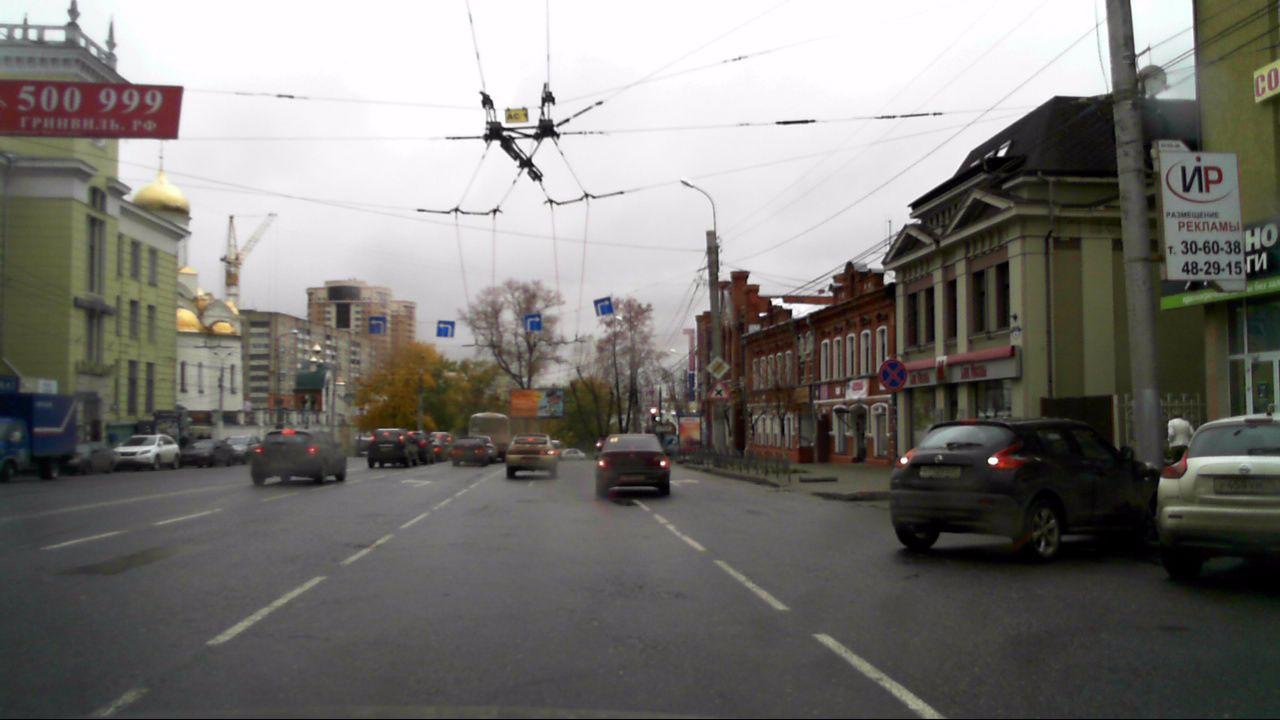No Parking: (878, 359, 908, 392)
